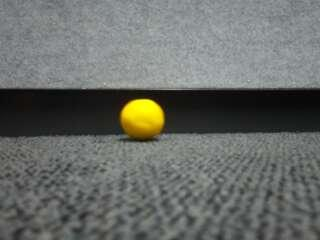lemon: (120, 99, 165, 142)
